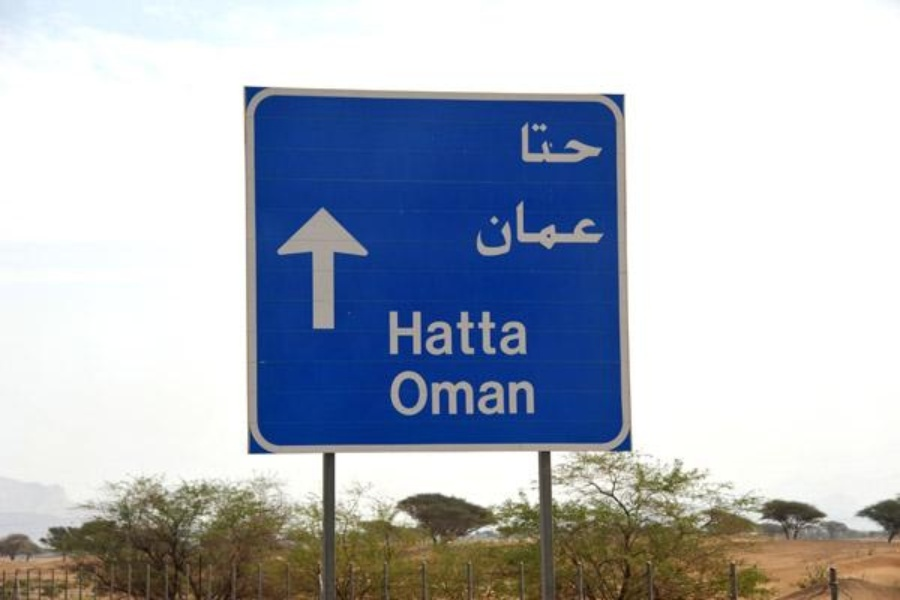text: (481, 199, 496, 259), (497, 199, 512, 259), (513, 199, 528, 259), (529, 199, 544, 259), (545, 199, 560, 259), (561, 199, 576, 259), (577, 199, 592, 259), (513, 307, 529, 359), (401, 307, 416, 359), (417, 307, 432, 359), (433, 307, 448, 359), (449, 307, 464, 359), (465, 307, 480, 359), (481, 307, 496, 359), (497, 307, 512, 359), (401, 368, 416, 416), (417, 368, 432, 416), (433, 368, 448, 416), (449, 368, 464, 416), (465, 368, 480, 416), (481, 368, 496, 416), (497, 368, 512, 416), (513, 368, 528, 416), (529, 119, 544, 166), (545, 119, 560, 166), (561, 119, 576, 166), (577, 119, 592, 166), (593, 199, 604, 259), (388, 307, 400, 359), (389, 368, 400, 416), (593, 119, 604, 166), (474, 199, 480, 259), (529, 368, 536, 416), (521, 119, 528, 166)
